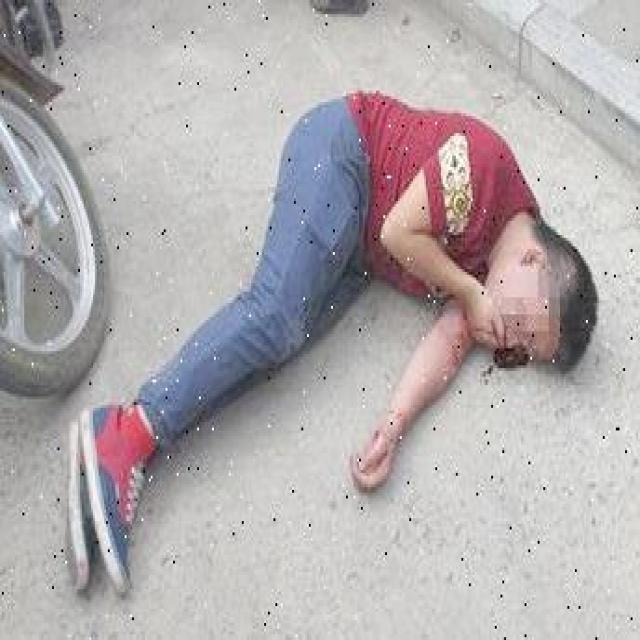fall: (175, 90, 603, 424)
